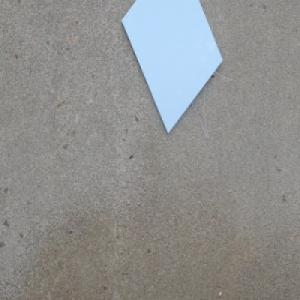PaintChip: (119, 0, 222, 137)
